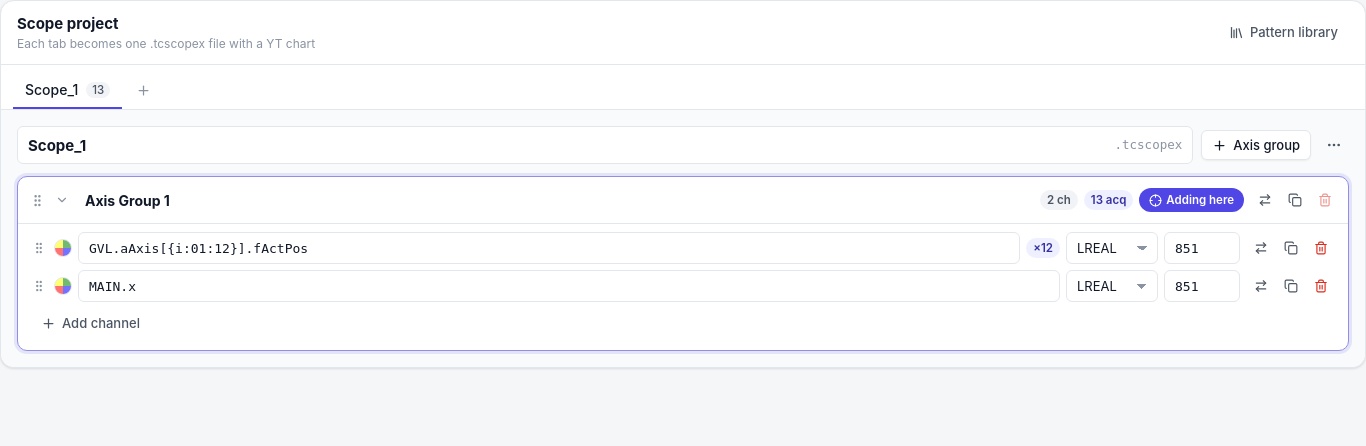
Scenario: channel name and colour › clears the name when emptied
Later steps or results of the test are not shown.
What coordinates should you click on to do the following:
click the 2nd button named "Name and colour"
I would click on:
 (63, 286)
Its box is [54,277,72,295].
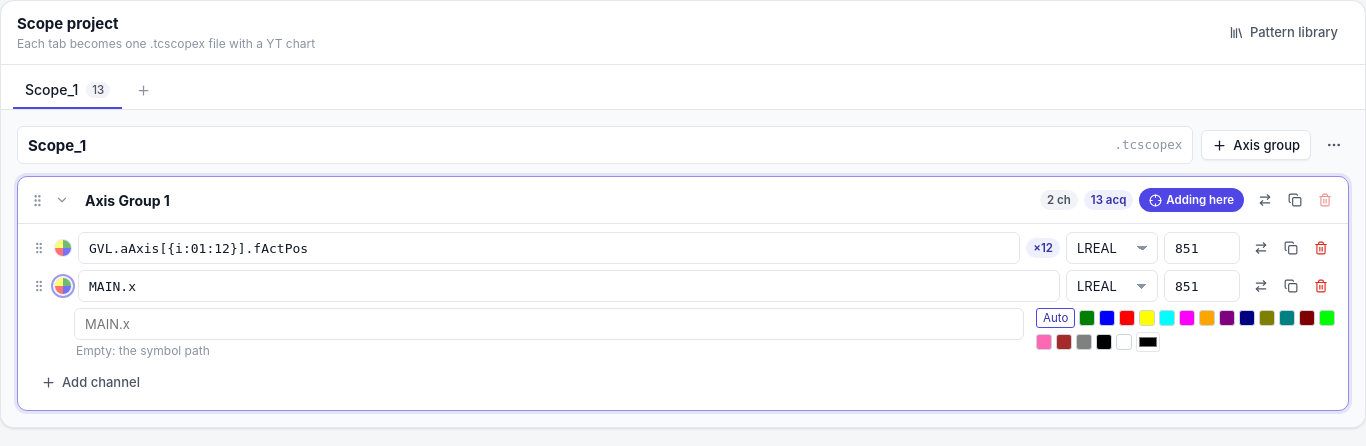
Expected: the 2nd button named "Name and colour" is expanded, [54,277,72,295]
